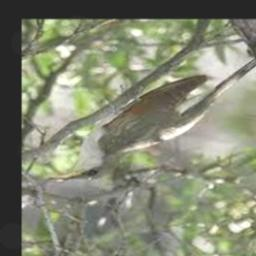Cuckoo: (50, 59, 256, 181)
